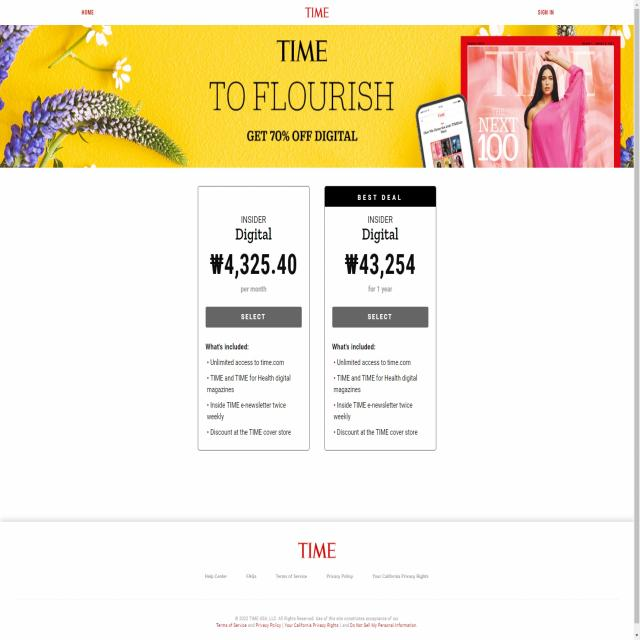menu-bar: (202, 570, 432, 582)
